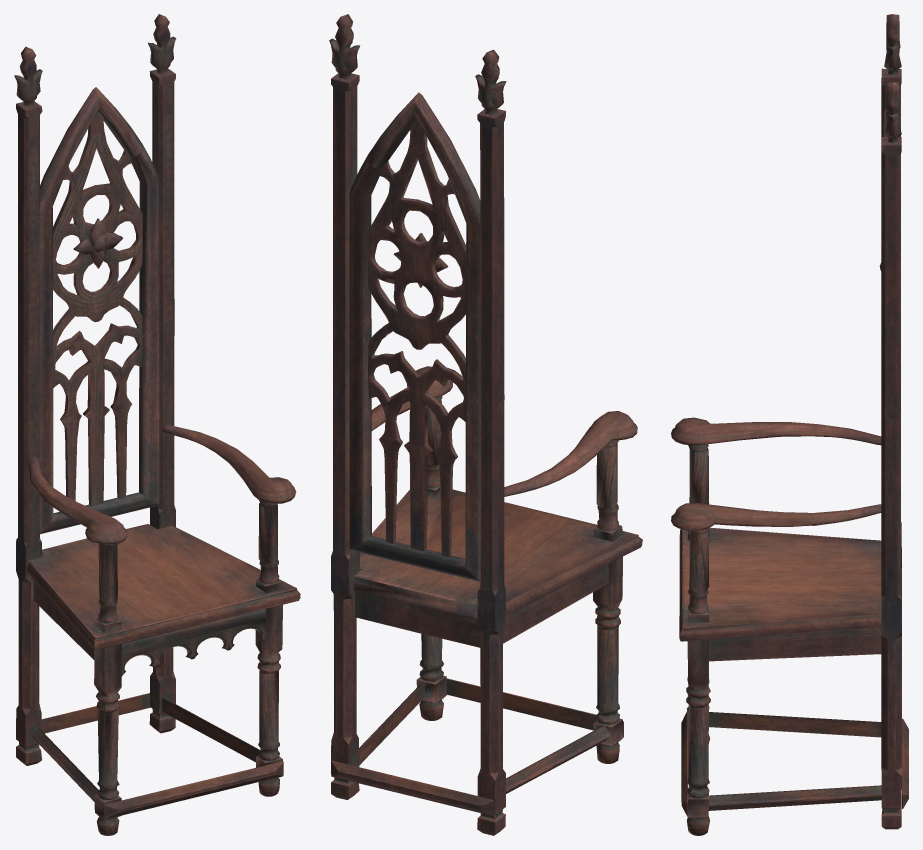
The model's file is WoodenChair_01.glb.
3 renders of one model, left to right at view 1: azimuth 30°, elevation 25°; view 2: azimuth 150°, elevation 25°; view 3: azimuth 270°, elevation 25°, orthographic. The views are drawn at different scales.
Visible parts, largest first — view 1: WoodenChair_01; view 2: WoodenChair_01; view 3: WoodenChair_01.
Part boxes in pixels (x1=…): WoodenChair_01: x1=14, y1=14, x2=300, y2=835; WoodenChair_01: x1=329, y1=14, x2=642, y2=835; WoodenChair_01: x1=671, y1=14, x2=908, y2=835.
Size of the model in its own units: 0.2729 by 0.9 by 0.2606.
1 material, 1 textured.
